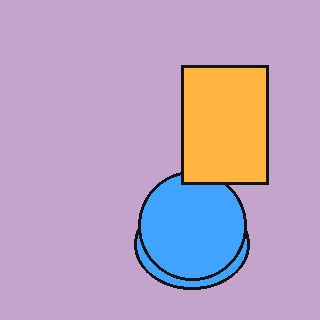circle_target: (138, 172, 247, 280), (135, 199, 250, 289)
square_target: (182, 65, 269, 184)
